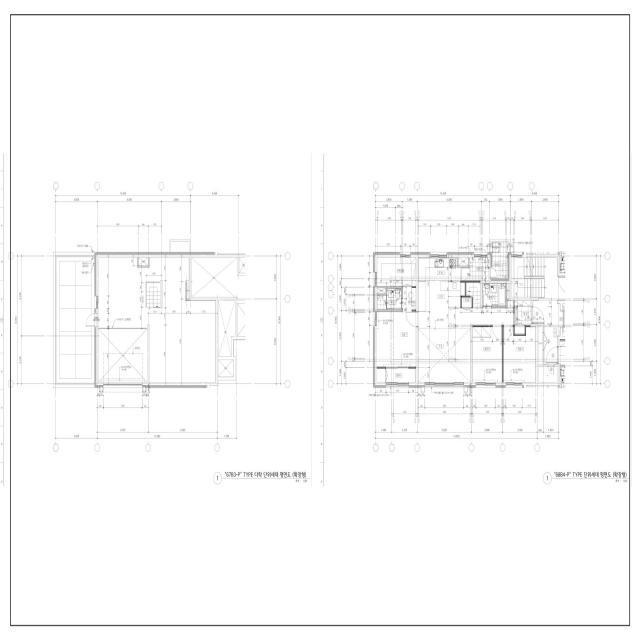space_balconi: (491, 241, 509, 278), (462, 258, 489, 281), (386, 369, 416, 382)
space_bedroom: (377, 312, 416, 367), (503, 327, 536, 382), (473, 327, 502, 382)
space_dressroom: (377, 258, 416, 286)
space_front: (515, 301, 532, 325), (515, 326, 525, 334)
space_kitchen: (418, 258, 465, 311)
space_living_room: (418, 301, 513, 382), (462, 298, 472, 308)
space_other: (98, 258, 216, 382), (56, 257, 95, 383), (533, 298, 557, 323), (403, 288, 416, 310), (377, 369, 385, 382), (458, 258, 468, 266), (138, 258, 148, 266), (377, 288, 386, 294), (507, 283, 509, 299), (187, 283, 189, 299)
space_staircase: (512, 258, 557, 297), (466, 283, 480, 308), (146, 282, 160, 307)
space_toilet: (483, 283, 506, 306), (387, 289, 401, 309), (377, 295, 386, 309)
